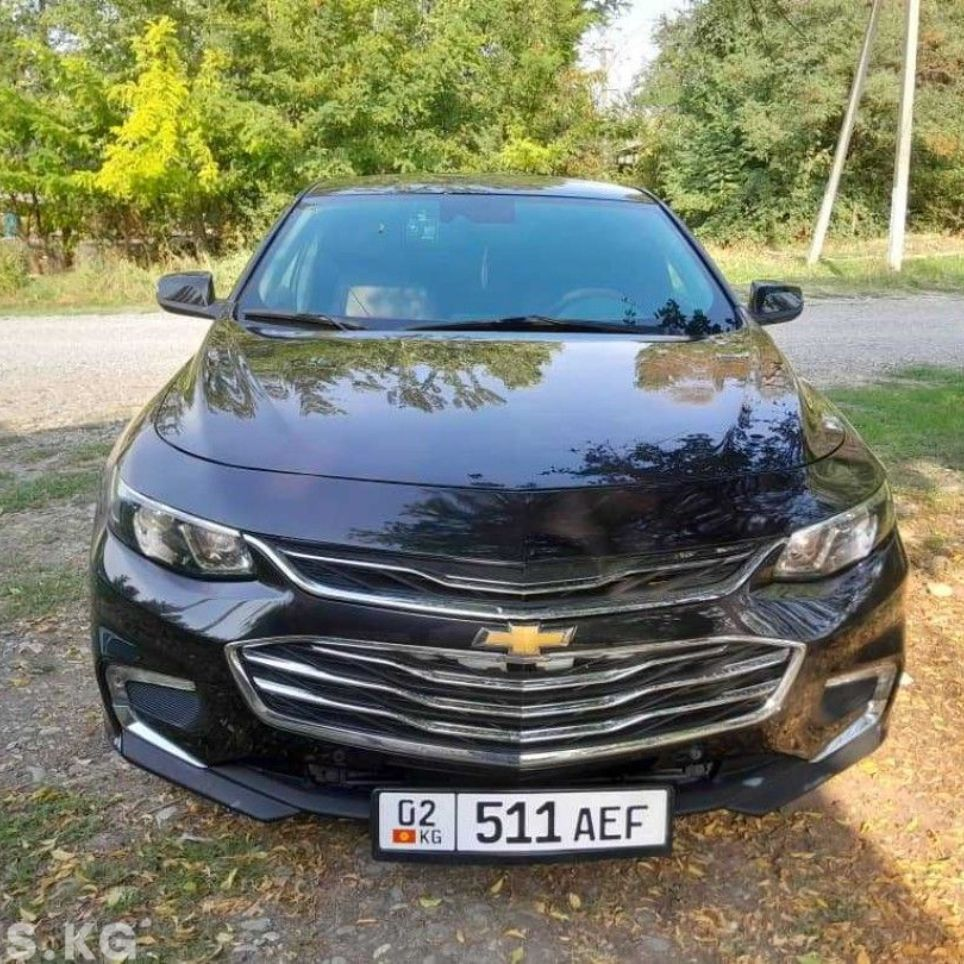license plate: (377, 790, 670, 852)
truck: (91, 175, 909, 877)
